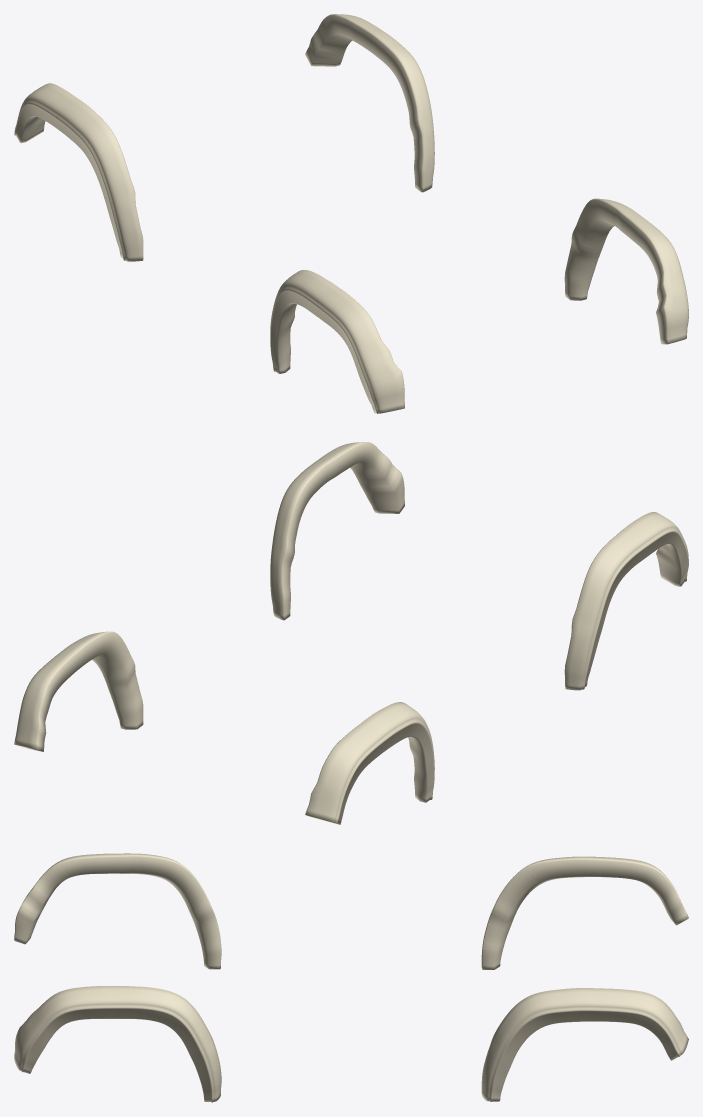
Rendered from fender_damd_little_g_t1.glb.
The picture shows the model from 3 angles, top to bottom: view 1: azimuth 30°, elevation 25°; view 2: azimuth 150°, elevation 25°; view 3: azimuth 270°, elevation 25°; orthographic projection. The views are drawn at different scales.
Parts seen in each view (by area): view 1: front-1.007, rear-1.007, front1.007, rear1.007; view 2: front-1.007, front1.007, rear-1.007, rear1.007; view 3: front1.007, rear1.007, front-1.007, rear-1.007.
Part boxes in pixels (x1,y1,x2,y2): front-1.007: [270, 270, 404, 413]; rear-1.007: [14, 83, 143, 261]; front1.007: [564, 198, 688, 344]; rear1.007: [305, 14, 434, 192]; front-1.007: [564, 512, 688, 690]; front1.007: [270, 442, 404, 620]; rear-1.007: [305, 702, 434, 824]; rear1.007: [14, 631, 143, 751]; front1.007: [14, 986, 221, 1102]; rear1.007: [481, 988, 688, 1101]; front-1.007: [14, 853, 221, 969]; rear-1.007: [481, 856, 688, 969].
Bounding box in the file's own units: 1.61 × 0.5628 × 3.08.
